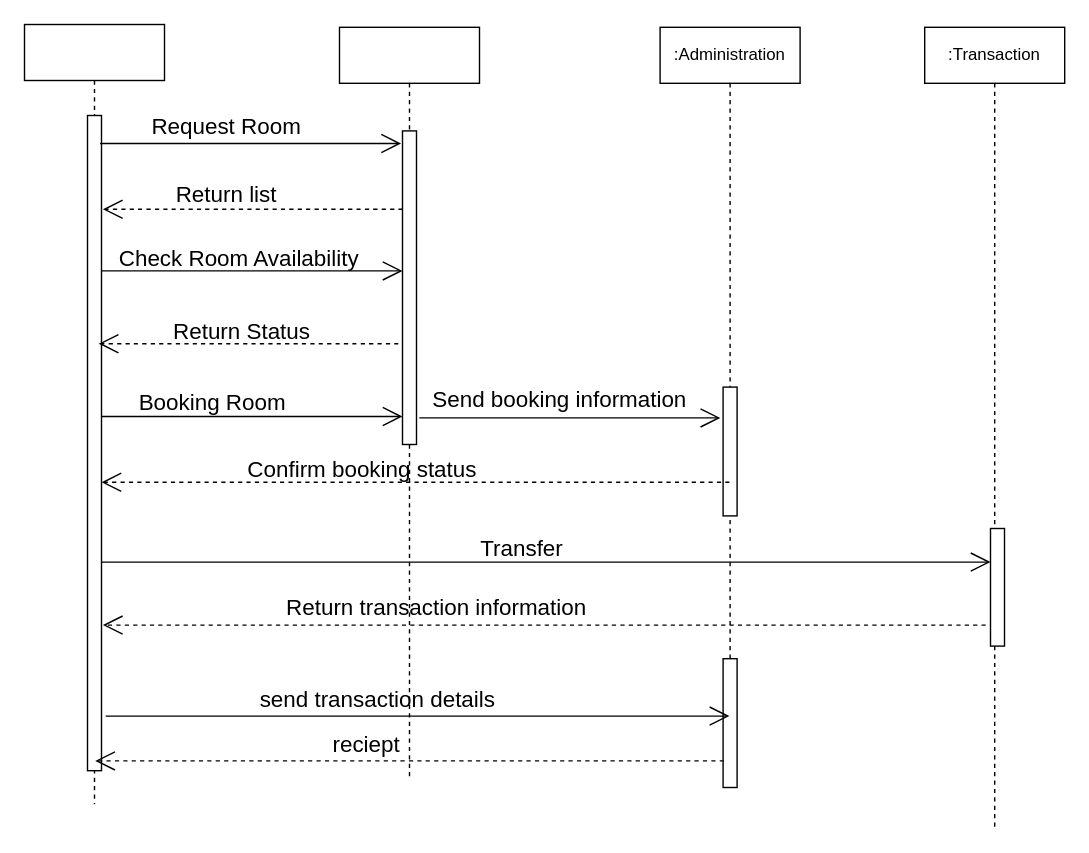
The diagram is 1089 pixels wide and 853 high, and some of its shapes have lost their labels. The shapes that lost their labels are listed below. From the top down, each one's box as (x1, y1, x2, y2) in pixels, then its label:
(23, 23, 164, 804): :Customer
(338, 26, 479, 780): :Room
